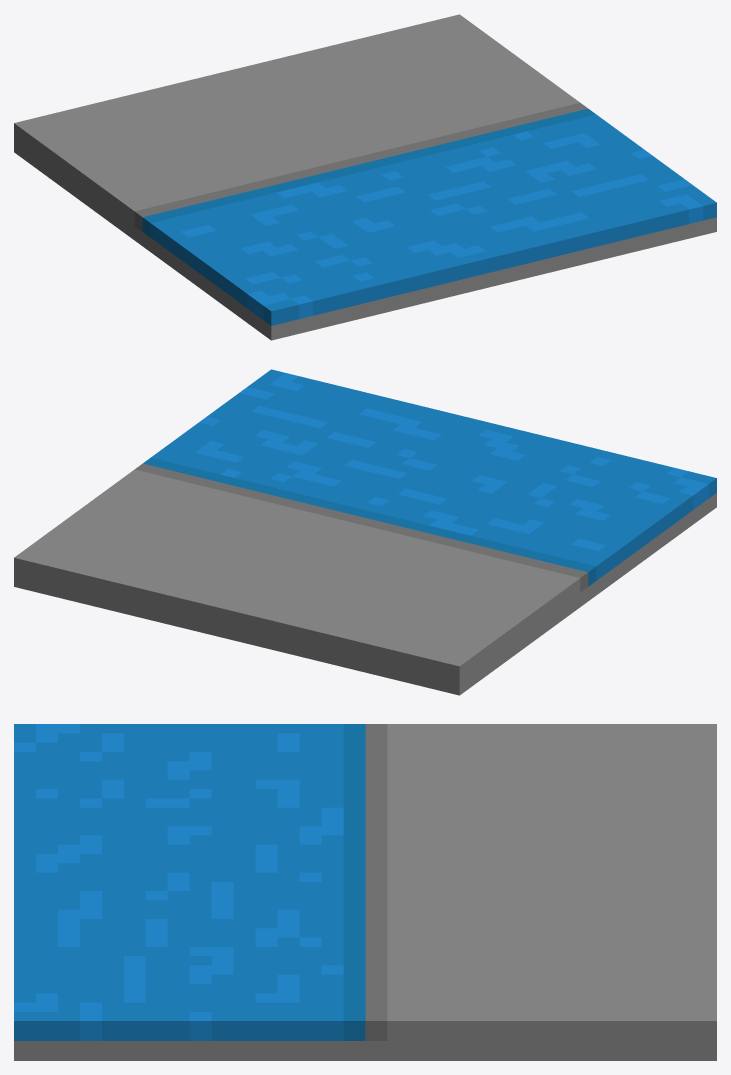
The model's file is city-water-side-3.gltf.
The picture shows the model from 3 angles, top to bottom: view 1: azimuth 30°, elevation 25°; view 2: azimuth 150°, elevation 25°; view 3: azimuth 270°, elevation 25°; orthographic projection. The views are drawn at different scales.
Visible parts, largest first — view 1: city-water-side-3; view 2: city-water-side-3; view 3: city-water-side-3.
Boxes of the visible parts, x1,y1,x2,y2 form: city-water-side-3: (14,14,716,340); city-water-side-3: (14,369,716,695); city-water-side-3: (14,724,716,1060).
Size of the model in its own units: 3.2 by 0.2 by 3.2.
Materials: 1 (1 with a texture image).
